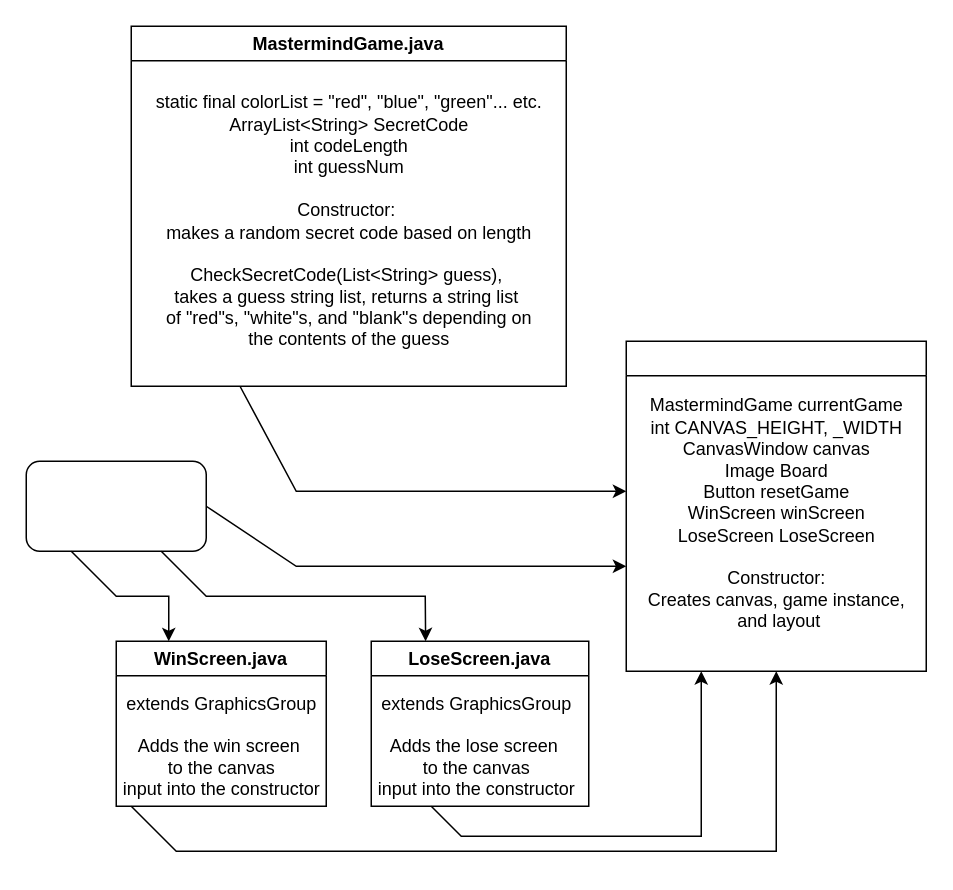
The diagram is 953 pixels wide and 890 high, and some of its shapes have lost their labels. The shapes that lost their labels are listed below. From the top down, each one's box as (x1, y1, x2, y2) in pixels, then its label:
(25, 460, 206, 551): Kilt Graphics API
(625, 340, 926, 671): MastermindApp.java
